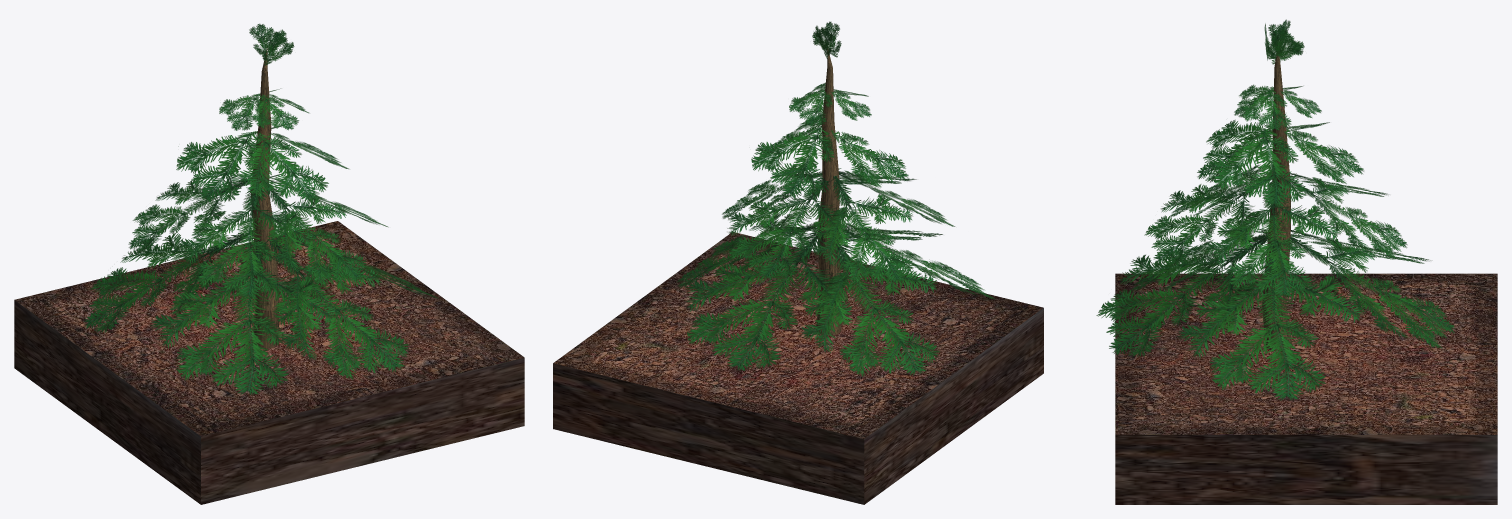
The model's file is greentree.glb.
3 renders of one model, left to right at view 1: azimuth 30°, elevation 25°; view 2: azimuth 150°, elevation 25°; view 3: azimuth 270°, elevation 25°, orthographic. The views are drawn at different scales.
Visible parts, largest first — view 1: SolidFloor; view 2: SolidFloor; view 3: SolidFloor.
Boxes of the visible parts, x1,y1,x2,y2 form: SolidFloor: (14, 23, 524, 504); SolidFloor: (553, 21, 1043, 504); SolidFloor: (1096, 19, 1497, 504).
Size of the model in its own units: 2.02 by 2.33 by 2.22.
Materials: 3 (3 with a texture image).
